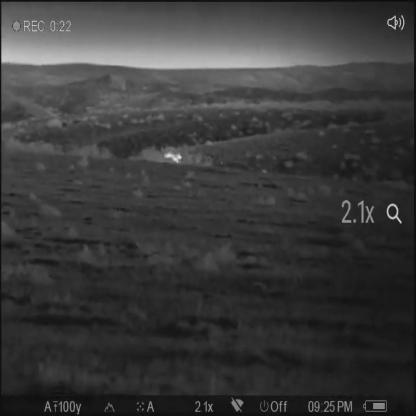rehkitze: (164, 150, 184, 163)
